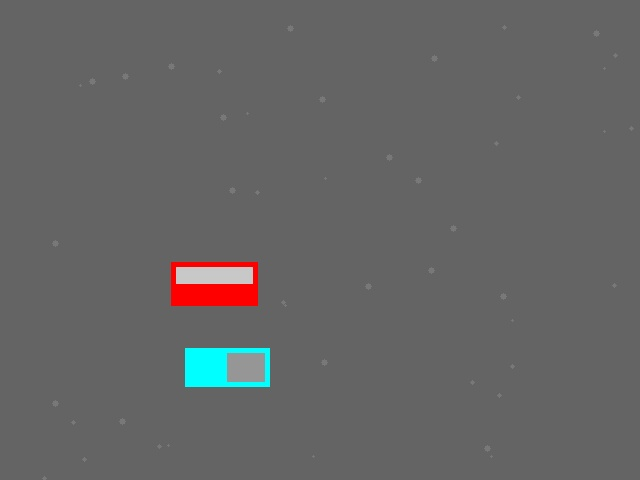car: (171, 262, 257, 305)
truck: (185, 348, 269, 386)
